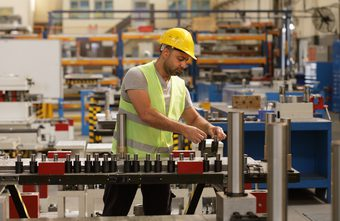epi: (108, 27, 228, 221)
